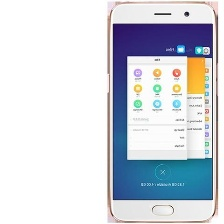phone: (105, 0, 218, 224)
